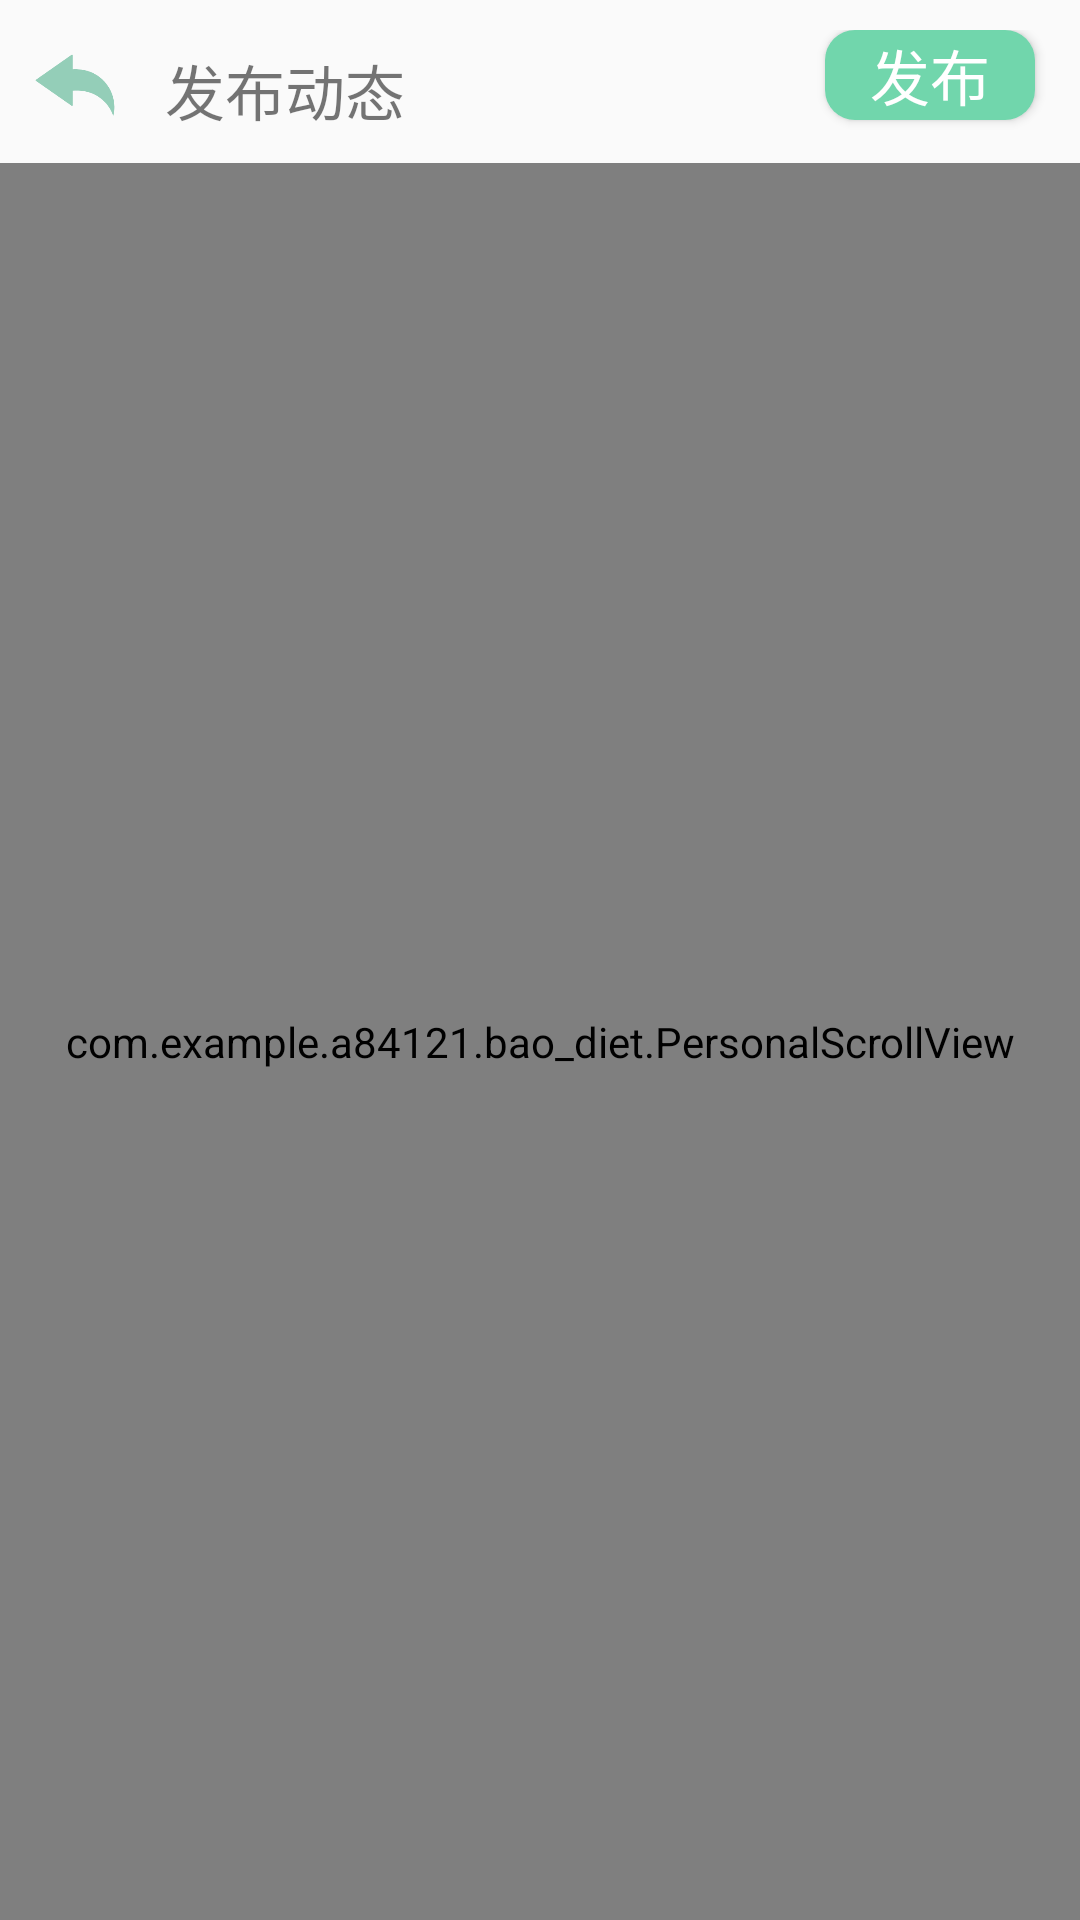

Named icons in this screenshot (1080 × 1920) and their centers, [x,y]:
back: [75,85]
